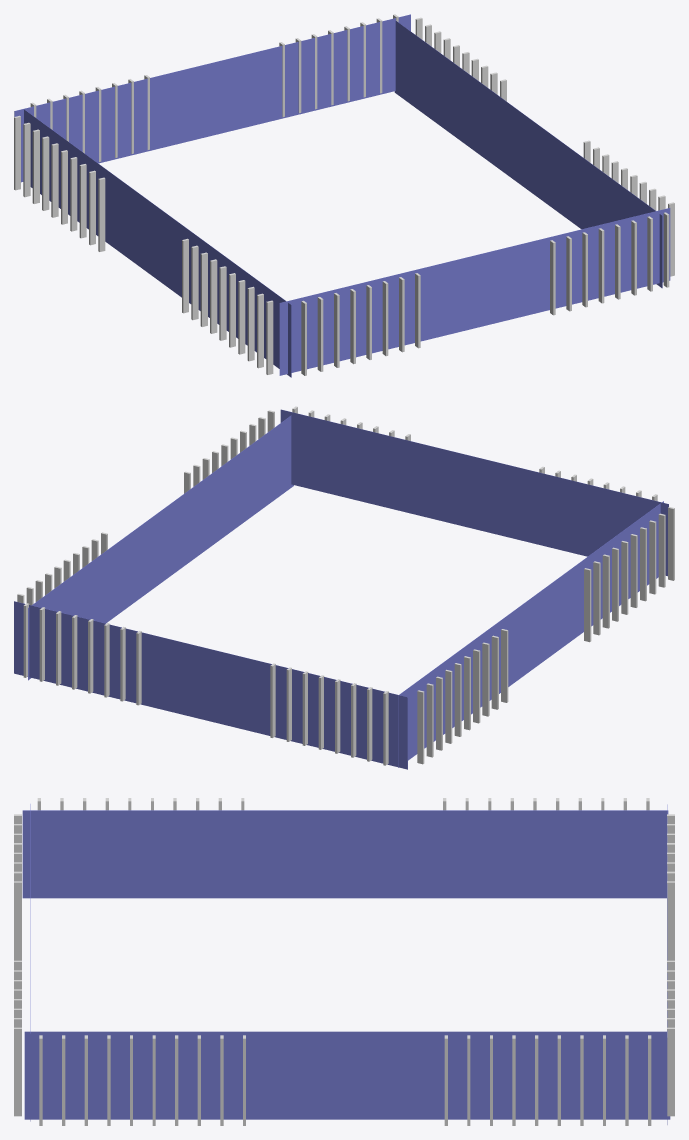
Rendered from outside0.glb.
3 views of the same model, one above another, from view 1: azimuth 30°, elevation 25°; view 2: azimuth 150°, elevation 25°; view 3: azimuth 270°, elevation 25° (orthographic). The views are drawn at different scales.
Visible parts, largest first — view 1: 立方体.001, glass.001, glass.002, glass.003, glass.008; view 2: glass.002, glass.001, 立方体.001, glass.003, glass.008; view 3: glass.008, glass.003, 立方体.001.
Part boxes in pixels (x1,y1,x2,y2): 立方体.001: (14,14,674,375); glass.001: (14,14,410,182); glass.002: (279,208,670,375); glass.003: (394,21,662,288); glass.008: (24,109,291,377); glass.002: (280,409,668,576); glass.001: (14,601,407,769); 立方体.001: (17,406,674,765); glass.003: (28,415,293,680); glass.008: (398,501,663,767); glass.008: (22,810,668,898); glass.003: (24,1031,670,1119); 立方体.001: (14,798,674,1125).
Size of the model in its own units: 35.19 by 6.31 by 40.94.
